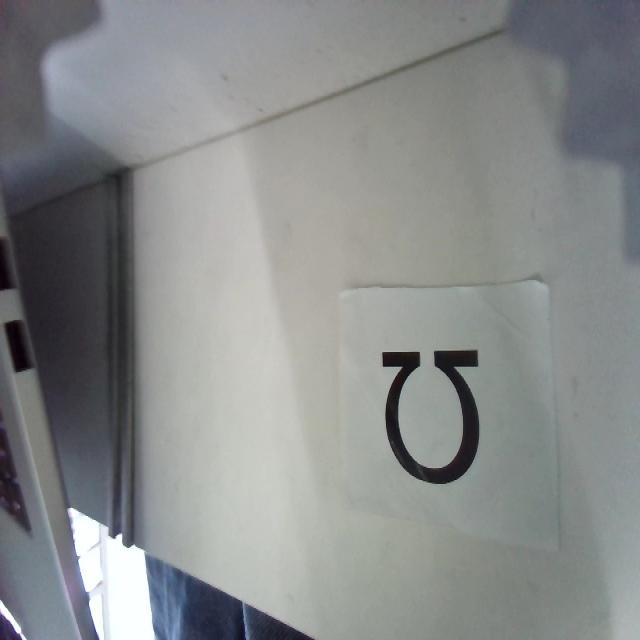OM: (380, 347, 483, 483)
